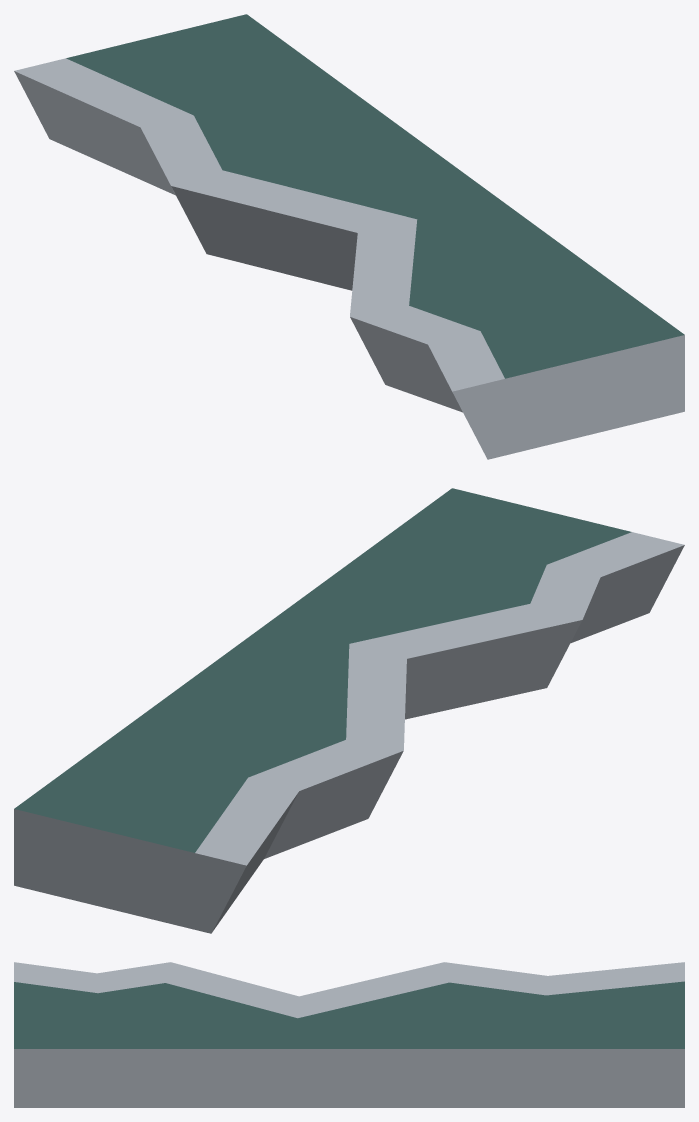
The model's file is Grey_Cliff_Top_01.fbx.
3 views of the same model, one above another, from view 1: azimuth 30°, elevation 25°; view 2: azimuth 150°, elevation 25°; view 3: azimuth 270°, elevation 25° (orthographic). The views are drawn at different scales.
Visible parts, largest first — view 1: Mesh1_Grey_Cliff_Top Model; view 2: Mesh1_Grey_Cliff_Top Model; view 3: Mesh1_Grey_Cliff_Top Model.
Boxes of the visible parts, x1=… form: Mesh1_Grey_Cliff_Top Model: x1=14, y1=14, x2=684, y2=459; Mesh1_Grey_Cliff_Top Model: x1=14, y1=488, x2=684, y2=933; Mesh1_Grey_Cliff_Top Model: x1=14, y1=962, x2=684, y2=1107.
Bounding box in the file's own units: 0.92 × 0.29 × 3.
